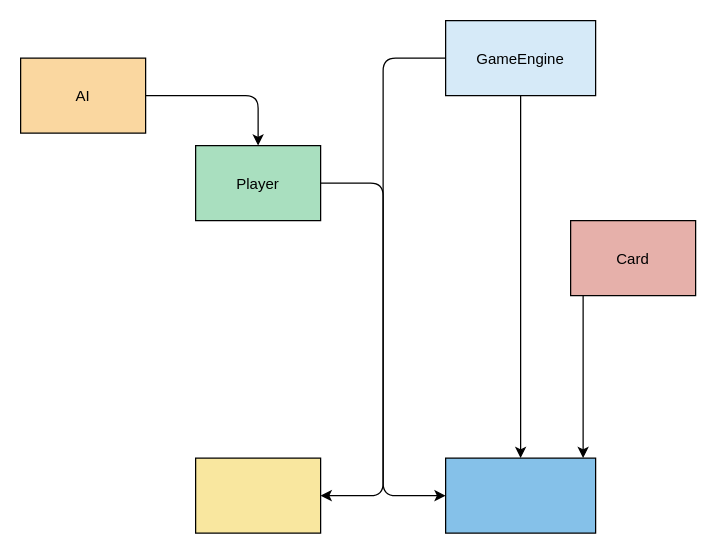
Image size: 716x554. Some labels were removed from this diagram. The box of each missing label's shape, as (x1, y1, x2, y2) in pixels:
BattleSystem: (444, 457, 596, 533)
GameHistory: (194, 457, 321, 533)
